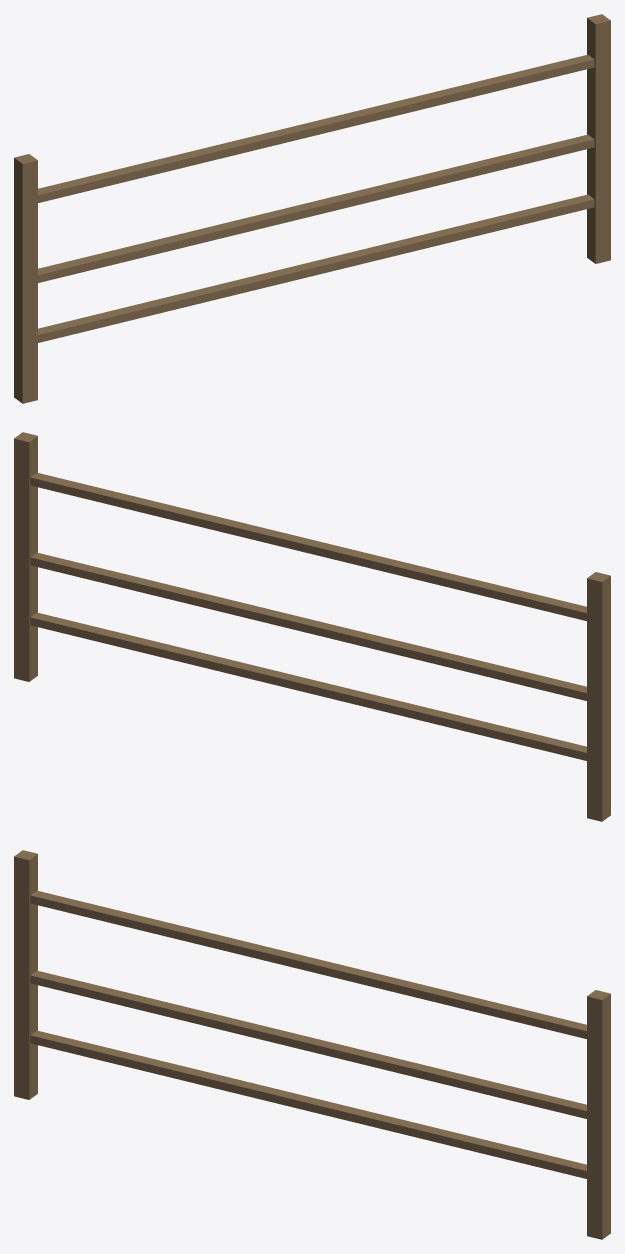
File: f33-post-rail-fence.glb
3 views of the same model, one above another, from view 1: azimuth 30°, elevation 25°; view 2: azimuth 150°, elevation 25°; view 3: azimuth 330°, elevation 25° (orthographic).
Visible parts, largest first — view 1: part0; view 2: part0; view 3: part0.
Boxes of the visible parts, x1,y1,x2,y2 form: part0: [14, 14, 610, 403]; part0: [14, 432, 610, 821]; part0: [14, 850, 610, 1239].
Size of the model in its own units: 3080 by 1200 by 80.09.
